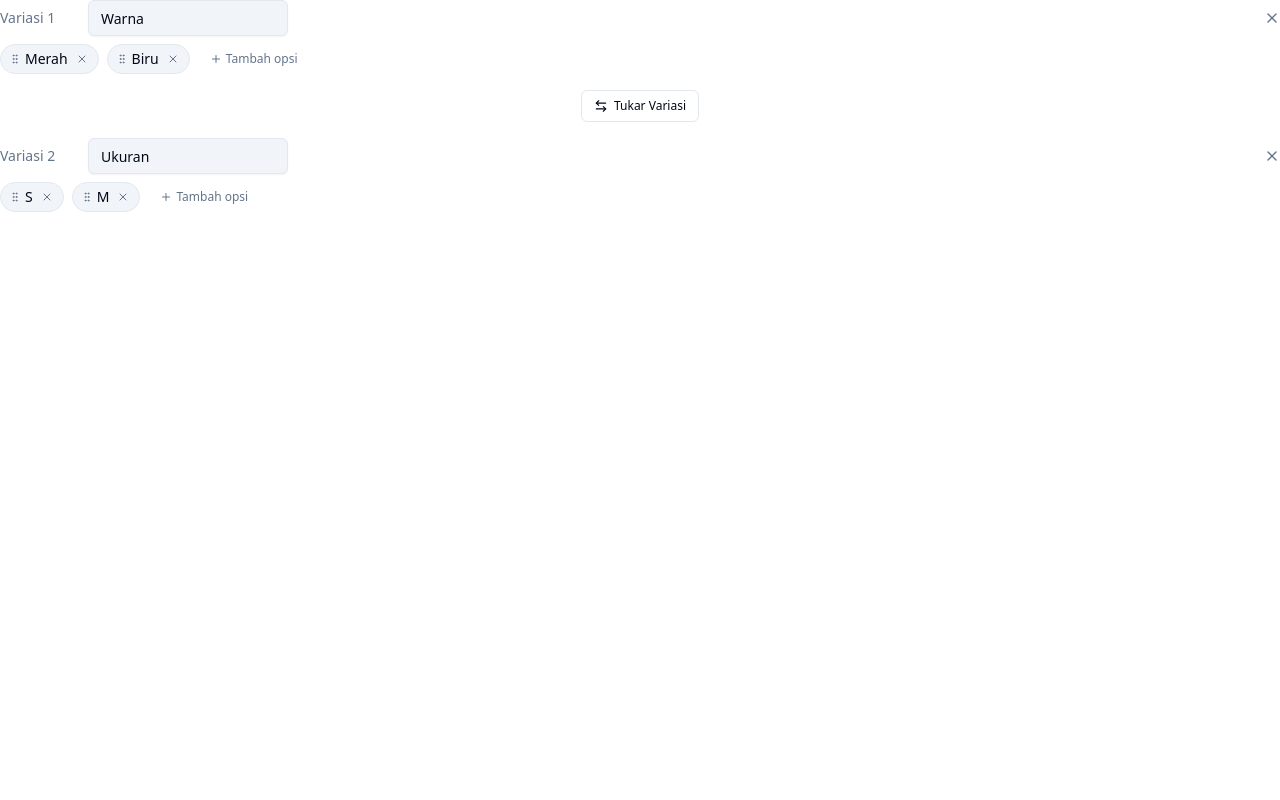
Test: VariasiSetupSection › clicking Tukar Variasi opens swap dialog with correct dim names
Step 1. Click the button "Tukar Variasi" → [640, 106], box [581,90,699,122]
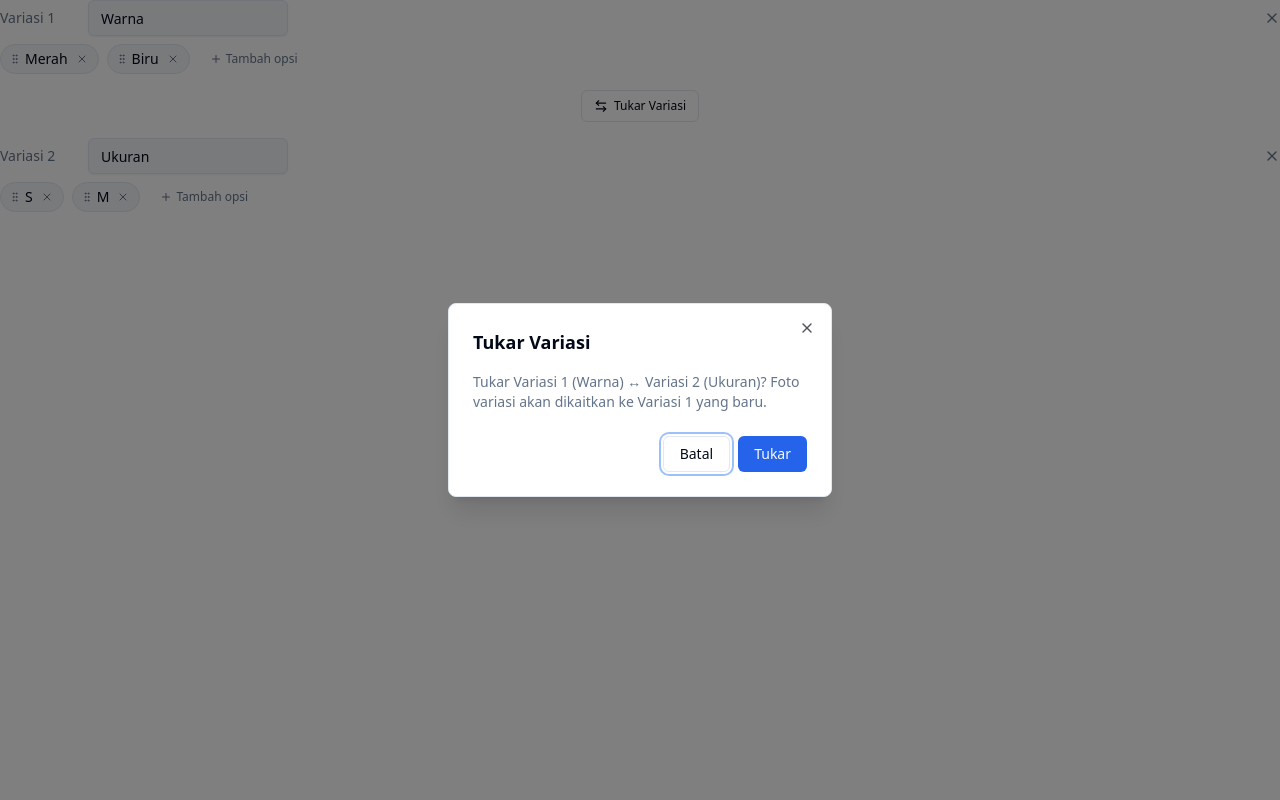
expect the dialog is shown: met, box [448,303,832,497]
expect the text "Tukar Variasi 1 (Warna) ↔ Variasi 2 (Ukuran)" is shown: met, box [473,372,807,412]
